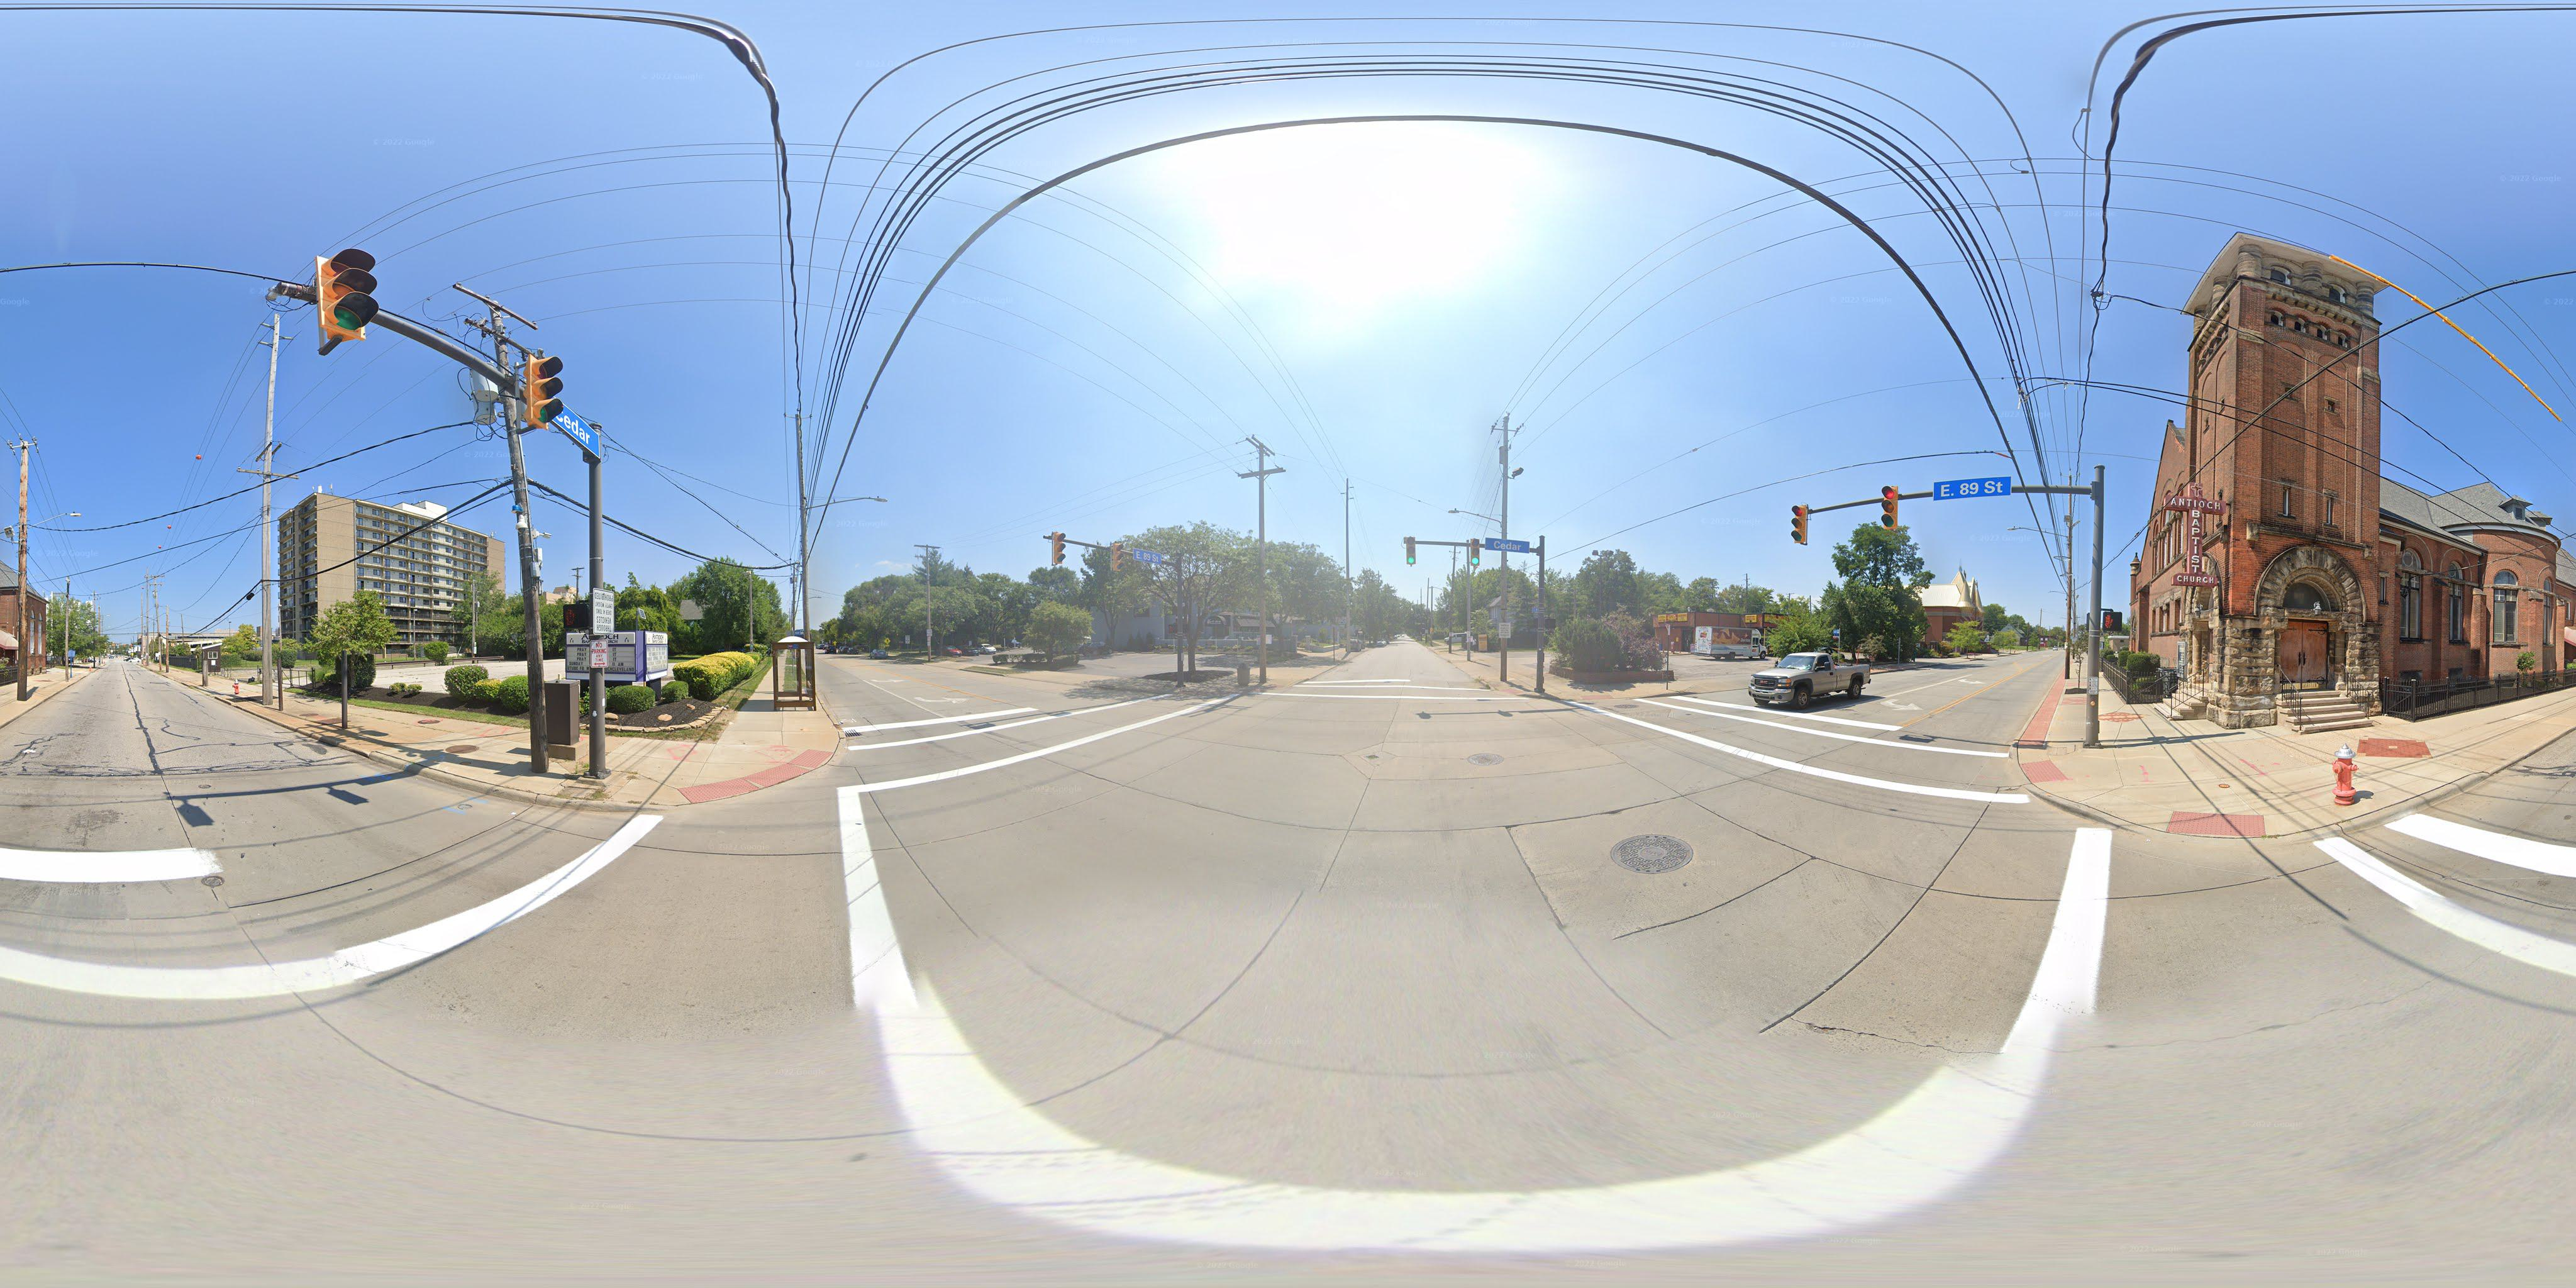Curb Ramp: (2127, 770, 2311, 881), (657, 744, 856, 805), (1998, 721, 2096, 812), (1561, 677, 1631, 710), (1247, 670, 1293, 706), (1480, 672, 1533, 703), (1176, 675, 1230, 703)
